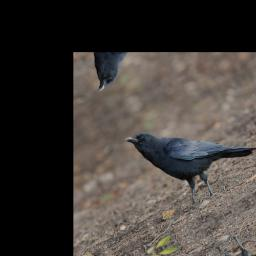Crow: (122, 86, 256, 224)
